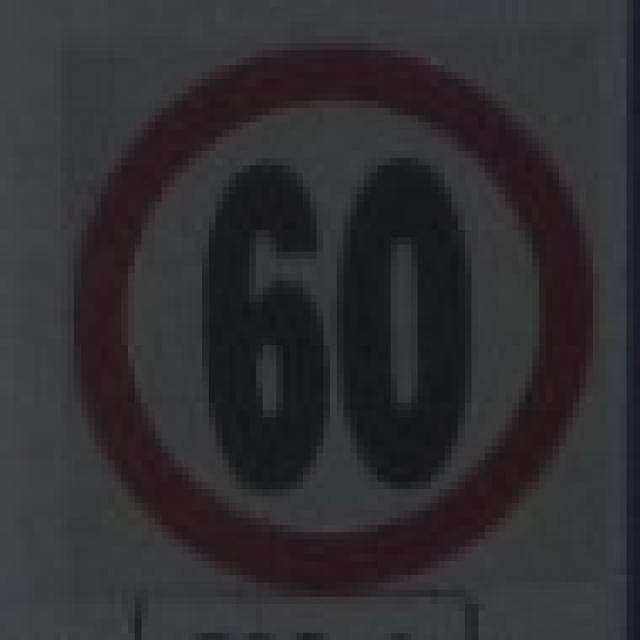Speed Limit -60-: (194, 148, 482, 504)
